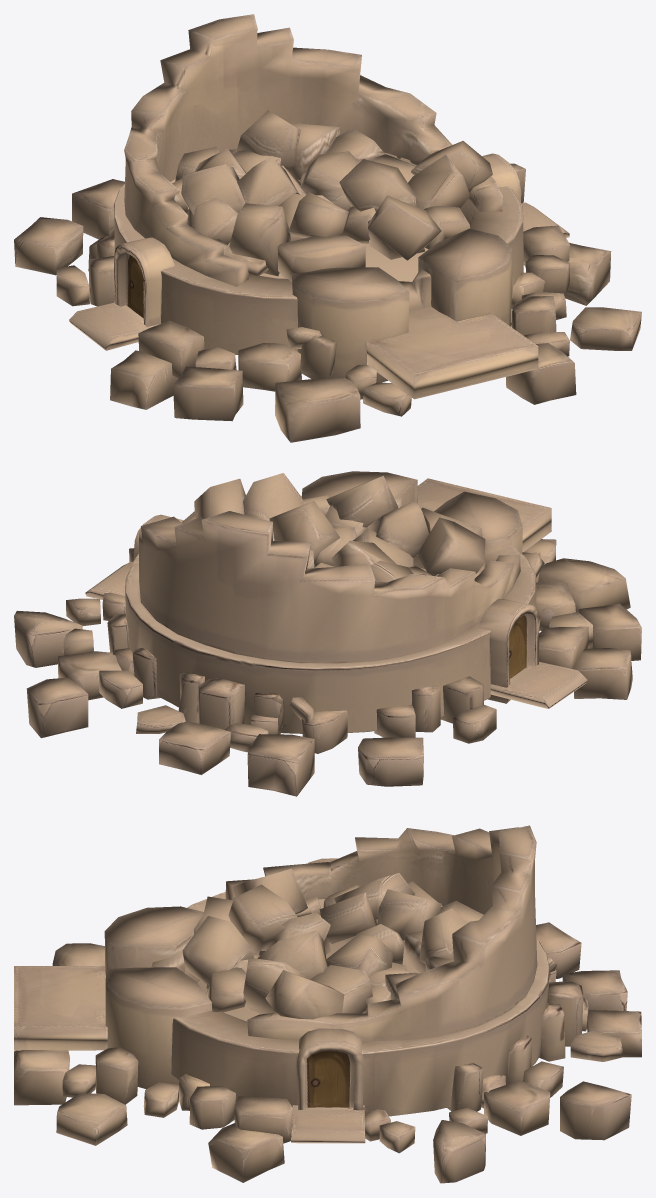
The model's file is meshy-c5-d4.glb.
The picture shows the model from 3 angles, top to bottom: view 1: azimuth 30°, elevation 25°; view 2: azimuth 150°, elevation 25°; view 3: azimuth 270°, elevation 25°; orthographic projection.
Size of the model in its own units: 0.956 by 0.3917 by 1.
Materials: 1 (1 with a texture image).
